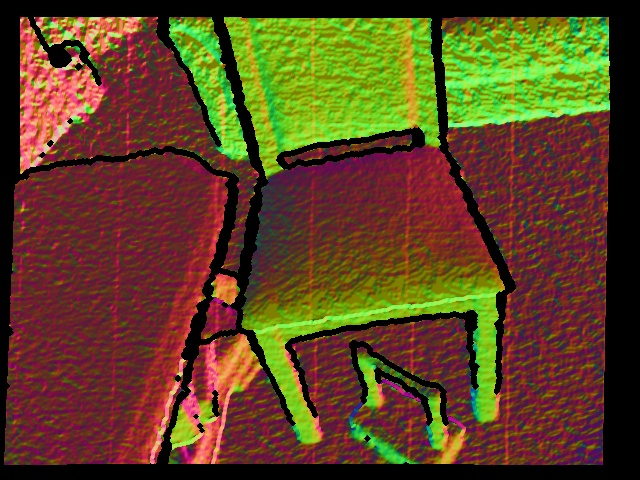station: (349, 344, 469, 466)
